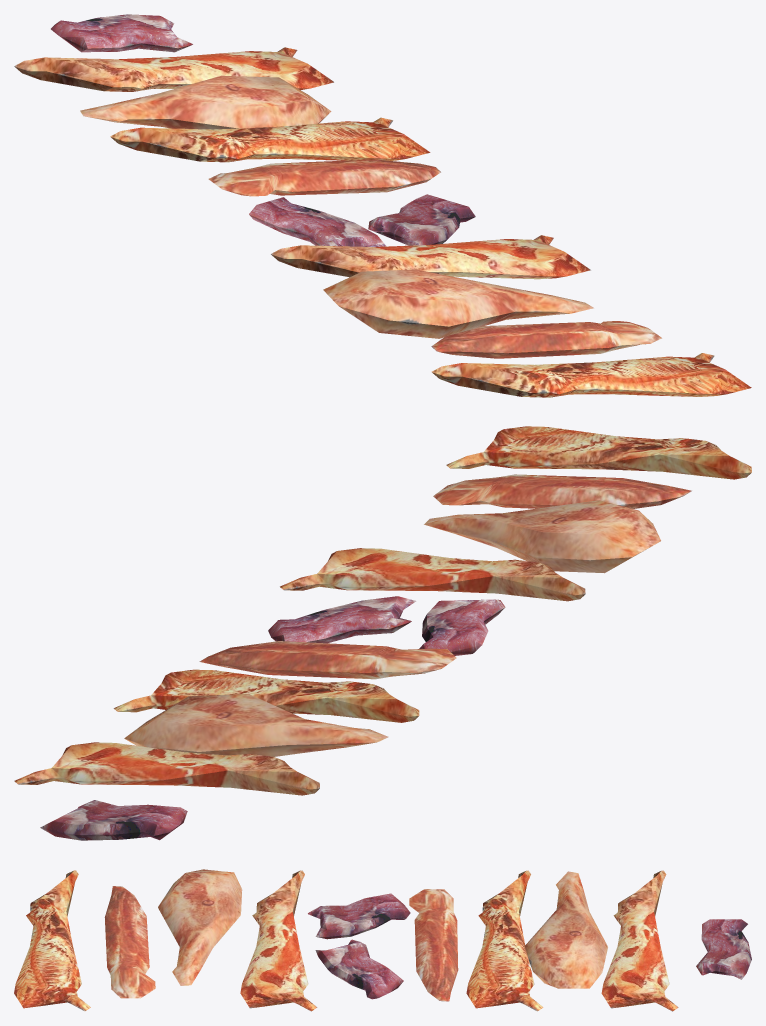
File: meat_booth01_LOD02.fbx
3 renders of one model, top to bottom at view 1: azimuth 30°, elevation 25°; view 2: azimuth 150°, elevation 25°; view 3: azimuth 270°, elevation 25°, orthographic. The views are drawn at different scales.
Visible parts, largest first — view 1: Mesh Object; view 2: Mesh Object; view 3: Mesh Object.
Part boxes in pixels (x1,y1,x2,y2): Mesh Object: (14, 14, 751, 397); Mesh Object: (14, 426, 751, 840); Mesh Object: (14, 869, 751, 1011).
Size of the model in its own units: 0.6076 by 0.1527 by 1.89.
